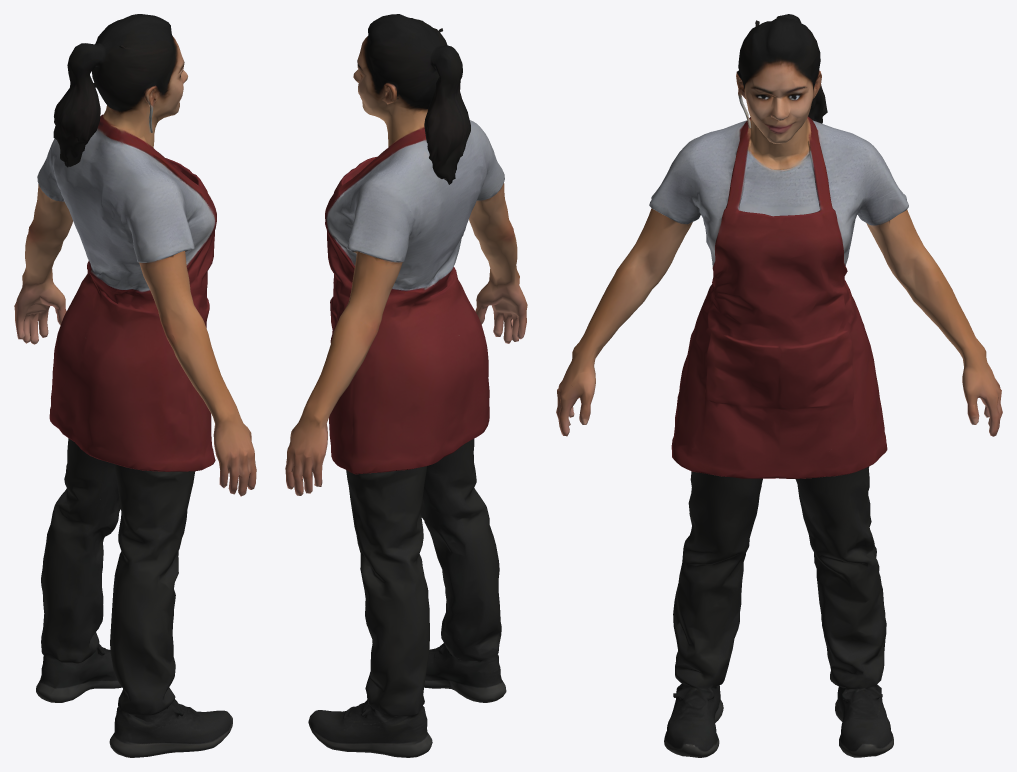
Rendered from atendente.glb.
3 views of the same model, side by side, from view 1: azimuth 30°, elevation 25°; view 2: azimuth 150°, elevation 25°; view 3: azimuth 270°, elevation 25° (orthographic). The views are drawn at different scales.
Visible parts, largest first — view 1: tripo_node_f9b97f28-3eb9-4b47-99bc-9b3170bdb55e; view 2: tripo_node_f9b97f28-3eb9-4b47-99bc-9b3170bdb55e; view 3: tripo_node_f9b97f28-3eb9-4b47-99bc-9b3170bdb55e.
Boxes of the visible parts, x1,y1,x2,y2 form: tripo_node_f9b97f28-3eb9-4b47-99bc-9b3170bdb55e: [14, 14, 256, 757]; tripo_node_f9b97f28-3eb9-4b47-99bc-9b3170bdb55e: [285, 14, 527, 757]; tripo_node_f9b97f28-3eb9-4b47-99bc-9b3170bdb55e: [556, 14, 1002, 757].
Bounding box in the file's own units: 0.2216 × 1.1 × 0.6191.
Materials: 1 (1 with a texture image).
